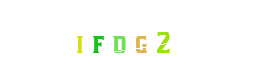2: (98, 0, 178, 80)
D: (87, 0, 167, 80)
F: (77, 0, 157, 80)
G: (96, 0, 176, 80)
I: (56, 0, 136, 80)
